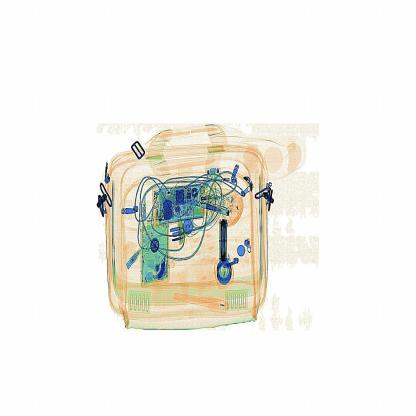scissors: (212, 209, 237, 262)
